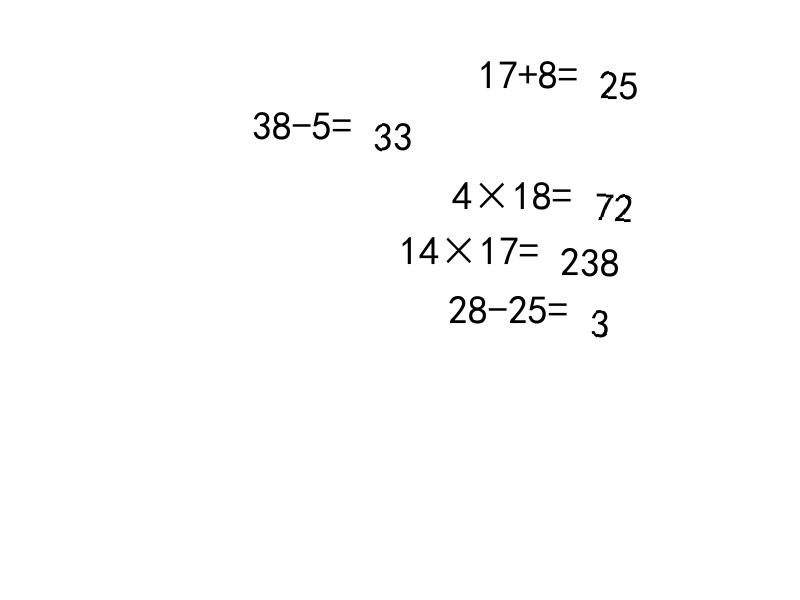+: (518, 54, 538, 82)
-: (292, 105, 312, 134), (488, 289, 508, 318)
1: (478, 54, 498, 82), (512, 175, 532, 203), (399, 230, 419, 258), (479, 230, 499, 258)
2: (448, 289, 468, 318), (508, 289, 528, 318), (588, 54, 608, 82), (602, 175, 622, 203), (549, 230, 569, 258)
3: (252, 105, 272, 134), (362, 105, 382, 134), (382, 105, 402, 134), (578, 289, 598, 318), (569, 230, 589, 258)
4: (452, 175, 472, 203), (419, 230, 439, 258)
5: (312, 105, 332, 134), (528, 289, 548, 318), (608, 54, 628, 82)
7: (498, 54, 518, 82), (582, 175, 602, 203), (499, 230, 519, 258)
8: (272, 105, 292, 134), (468, 289, 488, 318), (538, 54, 558, 82), (532, 175, 552, 203), (589, 230, 609, 258)
=: (332, 105, 352, 134), (548, 289, 568, 318), (558, 54, 578, 82), (552, 175, 572, 203), (519, 230, 539, 258)
×: (472, 175, 512, 203), (439, 230, 479, 258)
